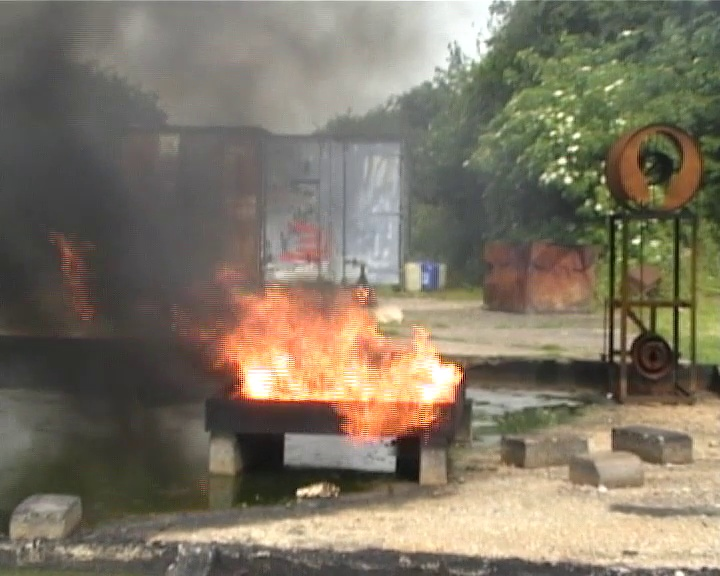fire: (226, 282, 461, 433)
